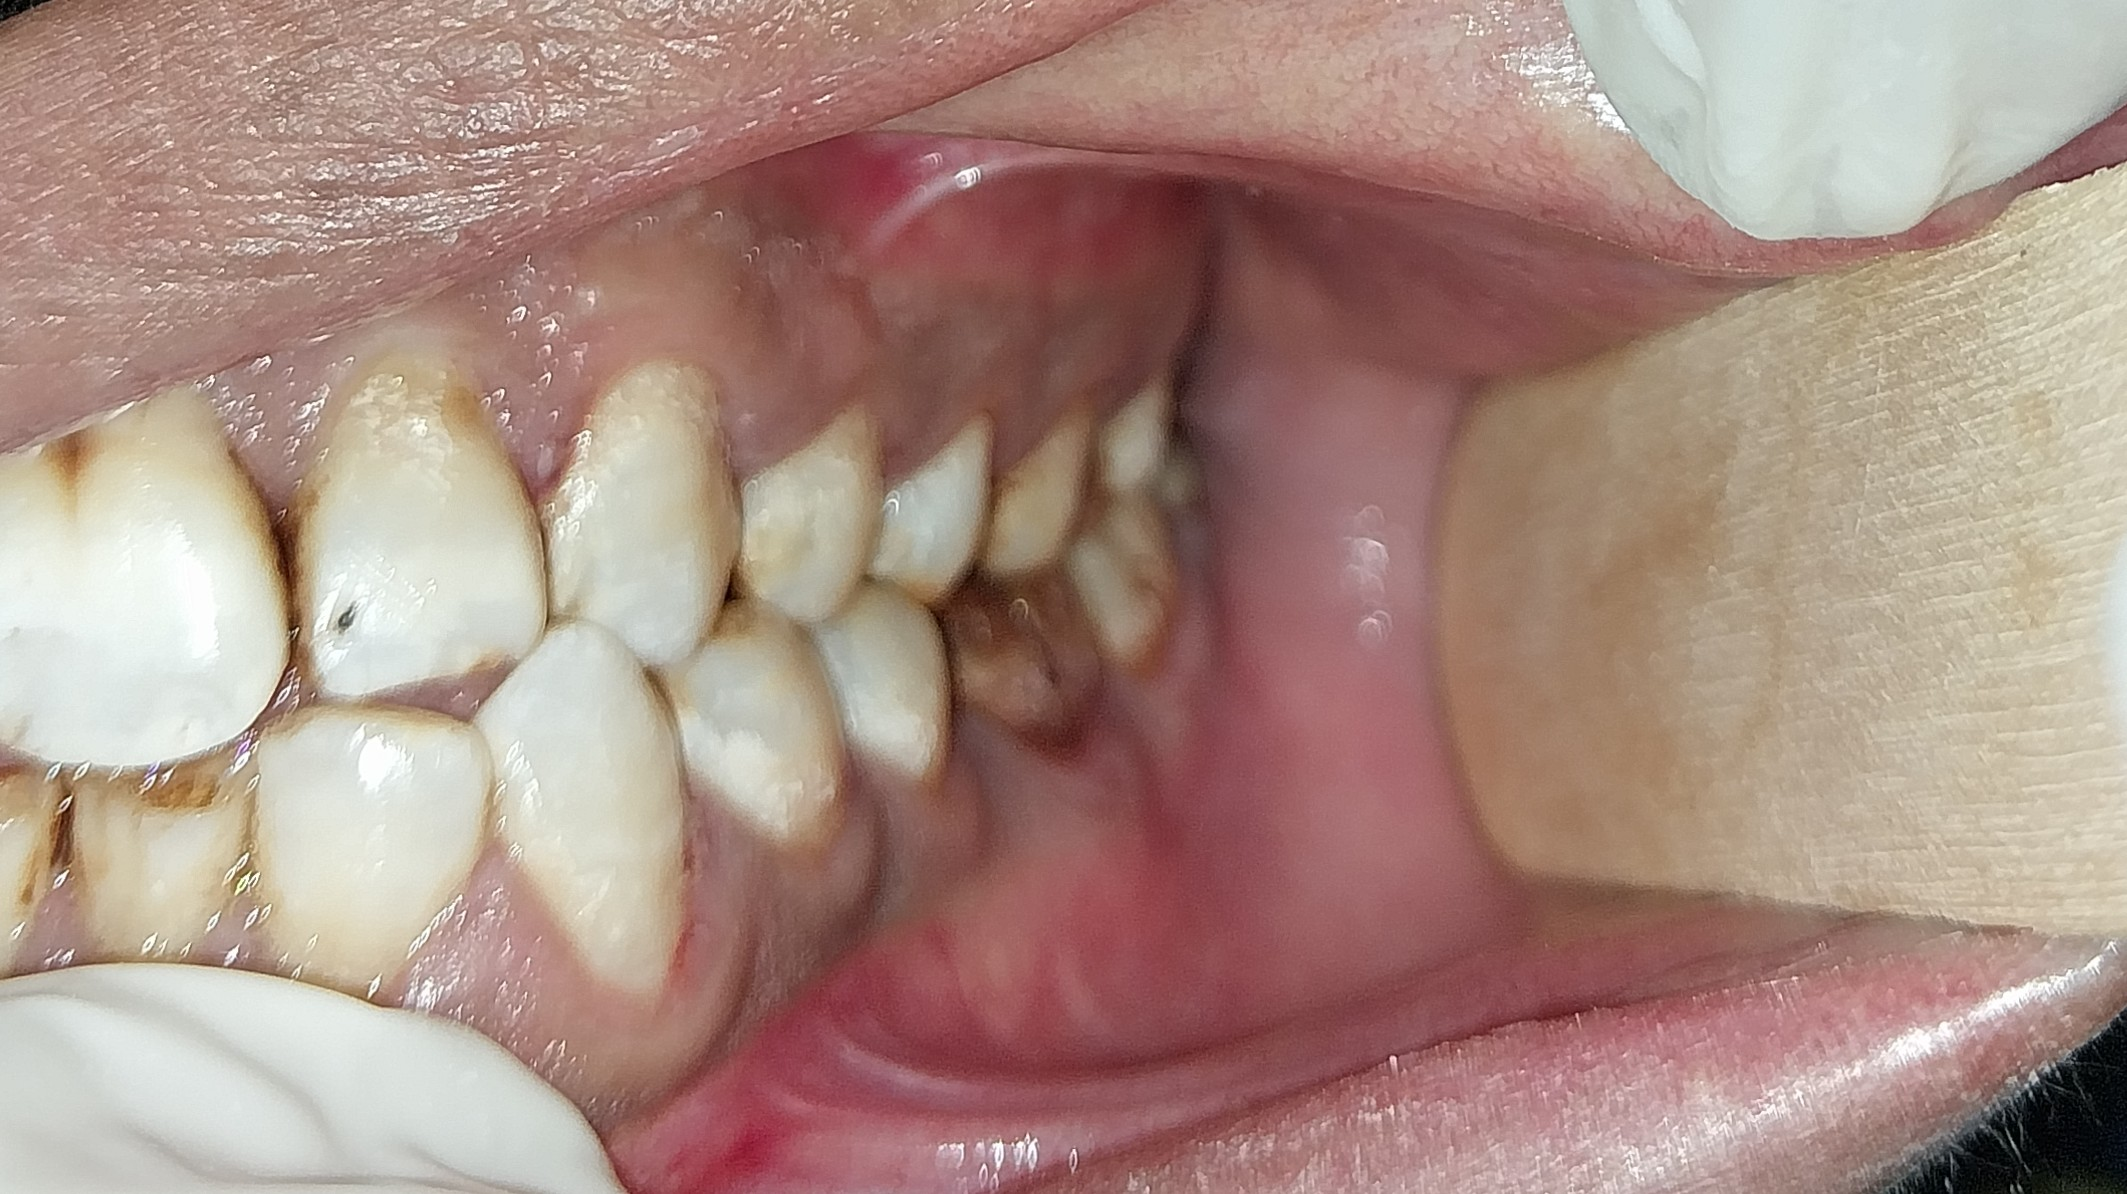D: (275, 350, 551, 705)
